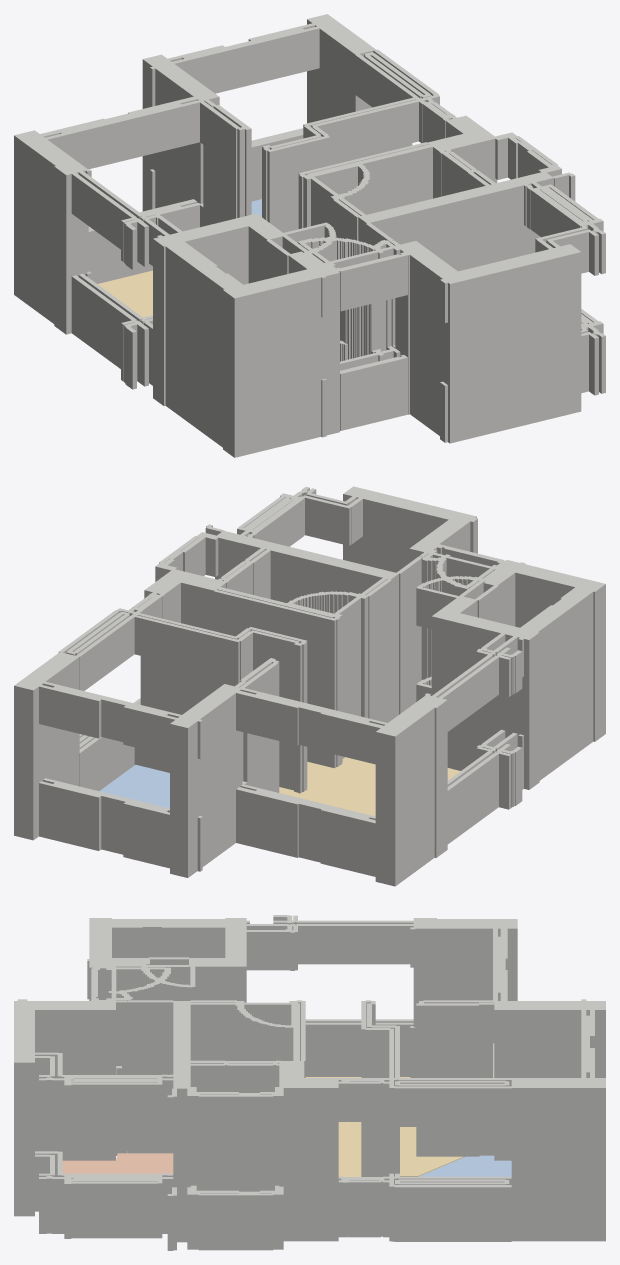
3 renders of one model, top to bottom at view 1: azimuth 30°, elevation 25°; view 2: azimuth 150°, elevation 25°; view 3: azimuth 270°, elevation 25°, orthographic. The views are drawn at different scales.
Parts seen in each view (by area): view 1: walls, room:living:1; view 2: walls, room:living:1, room:bedroom:0; view 3: walls, room:living:1, room:kitchen:5, room:bedroom:0.
Part boxes in pixels (bbox=[...]): walls: bbox=[14, 14, 605, 457]; room:living:1: bbox=[97, 270, 152, 317]; walls: bbox=[14, 486, 605, 886]; room:living:1: bbox=[279, 757, 460, 816]; room:bedroom:0: bbox=[99, 764, 169, 808]; walls: bbox=[14, 915, 605, 1250]; room:living:1: bbox=[305, 1077, 463, 1176]; room:kitchen:5: bbox=[62, 1151, 173, 1173]; room:bedroom:0: bbox=[419, 1155, 511, 1176].
Size of the model in its own units: 7.13 by 2.8 by 9.78.
